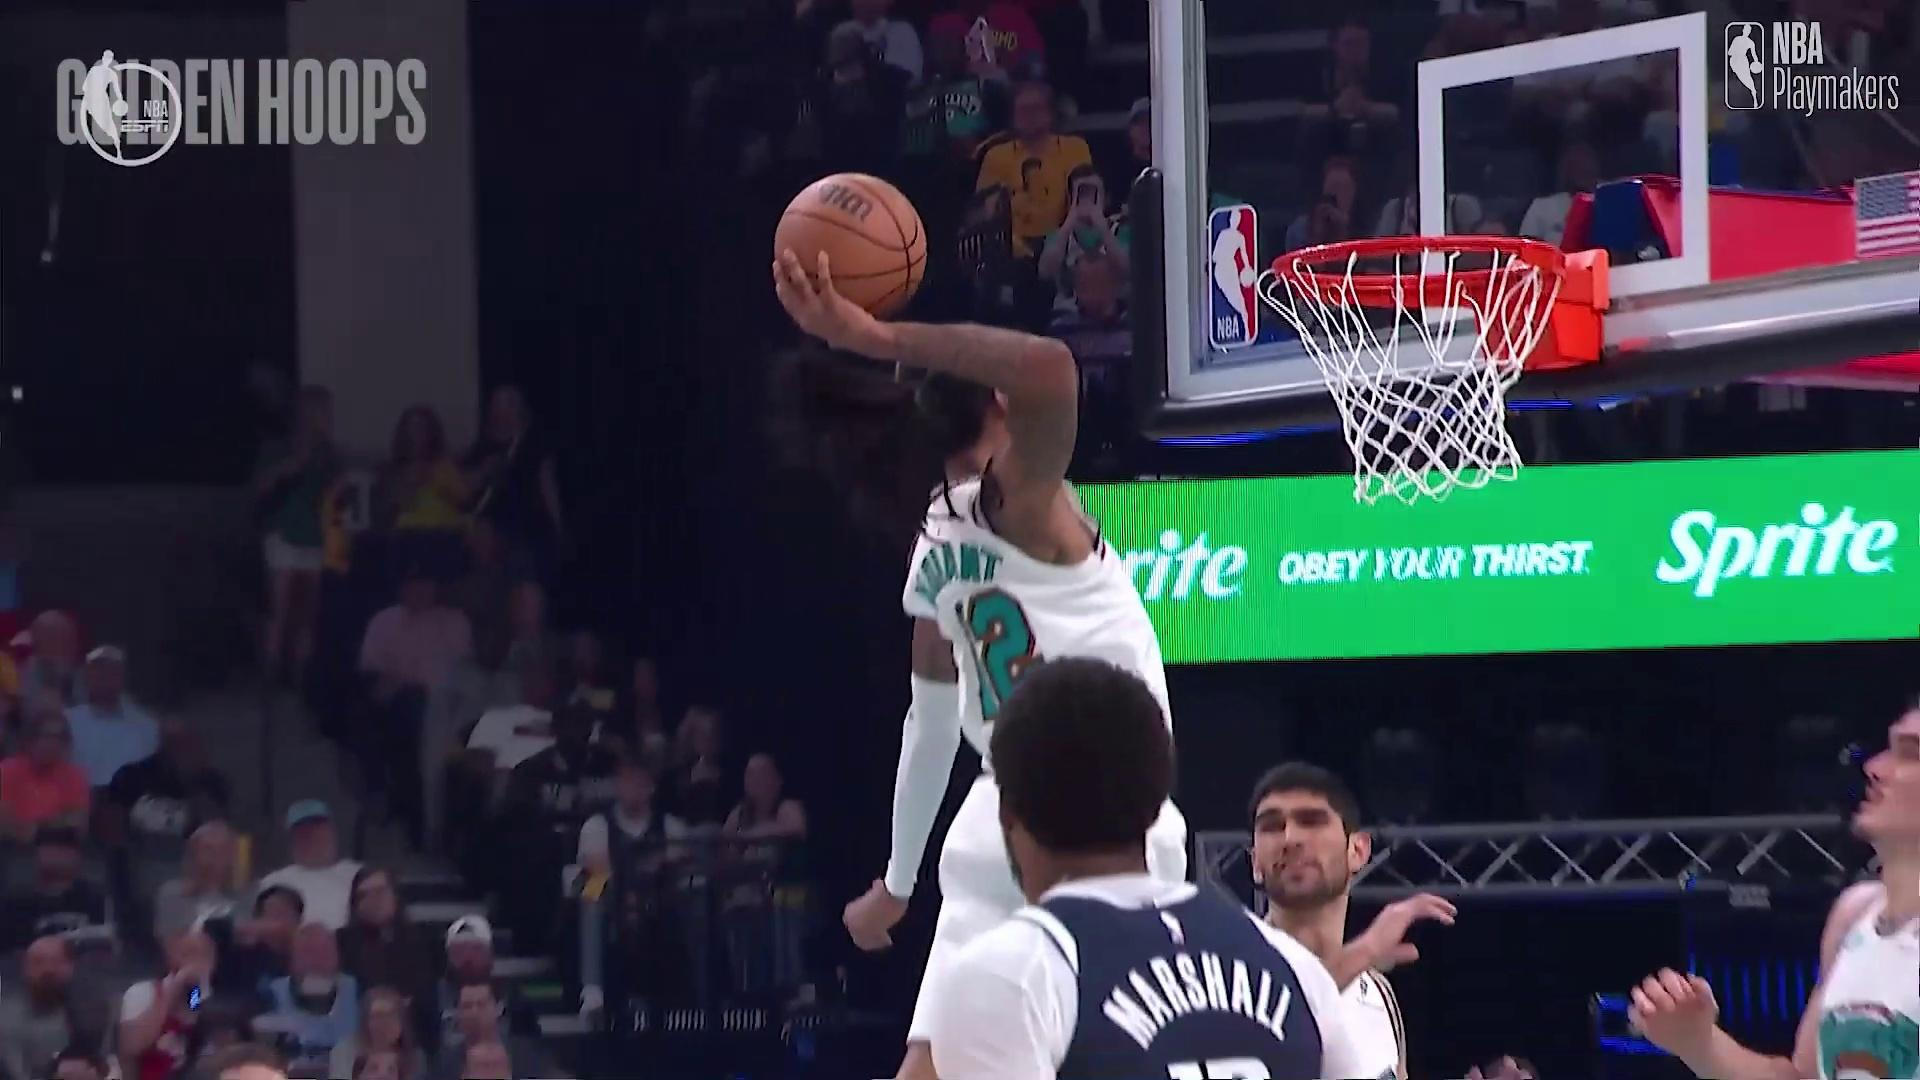ball: (766, 178, 943, 313)
hoop: (1265, 243, 1559, 517)
